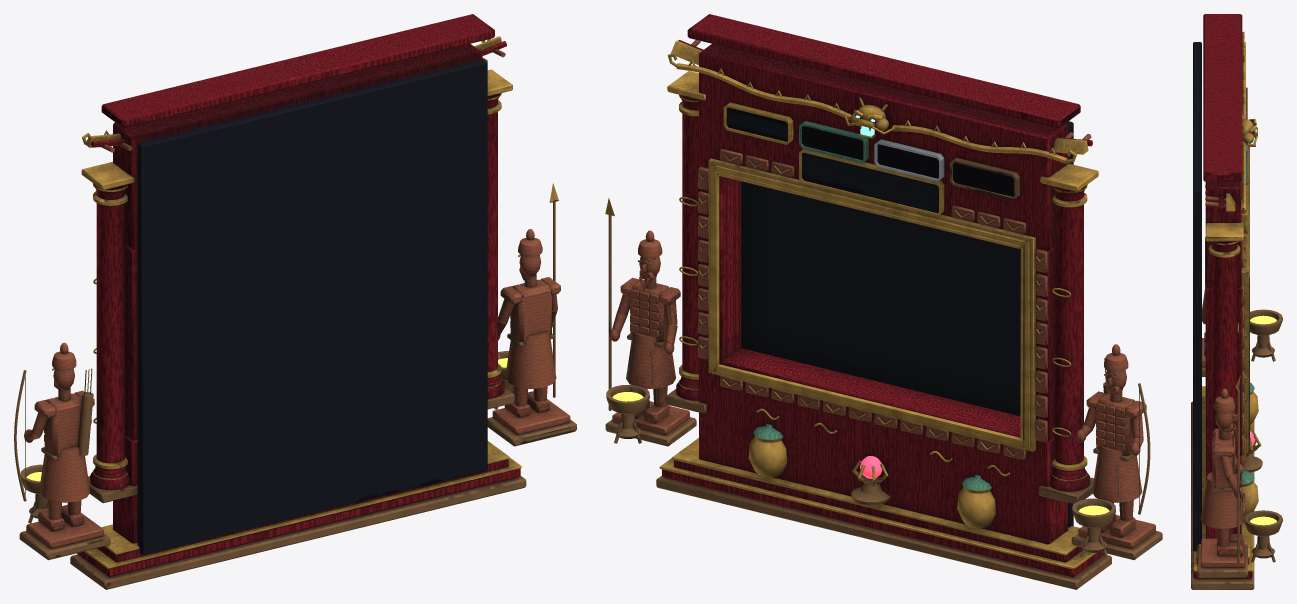
3 views of the same model, side by side, from view 1: azimuth 30°, elevation 25°; view 2: azimuth 150°, elevation 25°; view 3: azimuth 270°, elevation 25° (orthographic). The views are drawn at different scales.
Parts seen in each view (by area): view 1: Dark_enamel, Crimson_lacquer, Terracotta, Ritual_bronze, Imperial_gold; view 2: Crimson_lacquer, Dark_enamel, Imperial_gold, Terracotta, Ritual_bronze, Imperial_jade, Silver_tier; view 3: Crimson_lacquer, Terracotta, Imperial_gold, Ritual_bronze, Dark_enamel, Brazier_amber_glow, Imperial_jade.
Boxes of the visible parts, x1,y1,x2,y2 form: Dark_enamel: (137, 59, 487, 554); Crimson_lacquer: (77, 14, 520, 577); Terracotta: (24, 49, 570, 548); Ritual_bronze: (14, 201, 576, 589); Imperial_gold: (25, 36, 558, 568); Crimson_lacquer: (662, 14, 1103, 576); Dark_enamel: (726, 107, 1073, 527); Imperial_gold: (605, 40, 1139, 569); Terracotta: (610, 40, 1155, 548); Ritual_bronze: (605, 113, 1162, 589); Imperial_jade: (753, 121, 991, 490); Silver_tier: (874, 139, 944, 181); Crimson_lacquer: (1193, 14, 1251, 578); Terracotta: (1200, 185, 1244, 567); Imperial_gold: (1193, 31, 1261, 571); Ritual_bronze: (1191, 87, 1282, 589); Dark_enamel: (1193, 42, 1201, 551); Brazier_amber_glow: (1250, 315, 1276, 525); Imperial_jade: (1241, 152, 1254, 484).
Bounding box in the file's own units: 12.28 × 9.9 × 2.03.
Materials: 10 (7 with a texture image).
